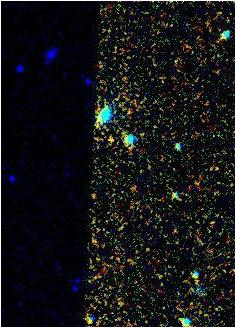star: (92, 127, 122, 157)
